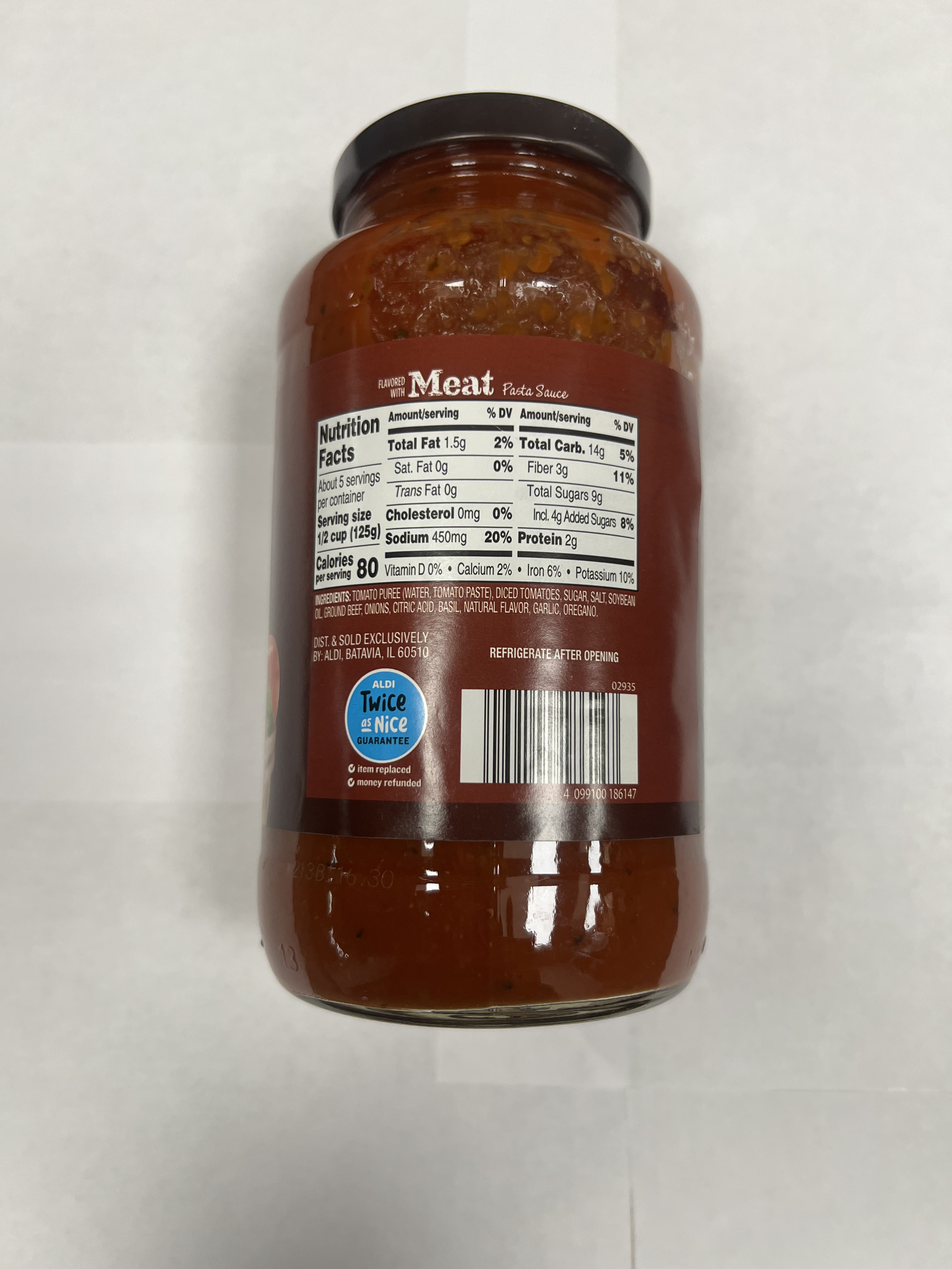packaged: (248, 85, 718, 1030)
